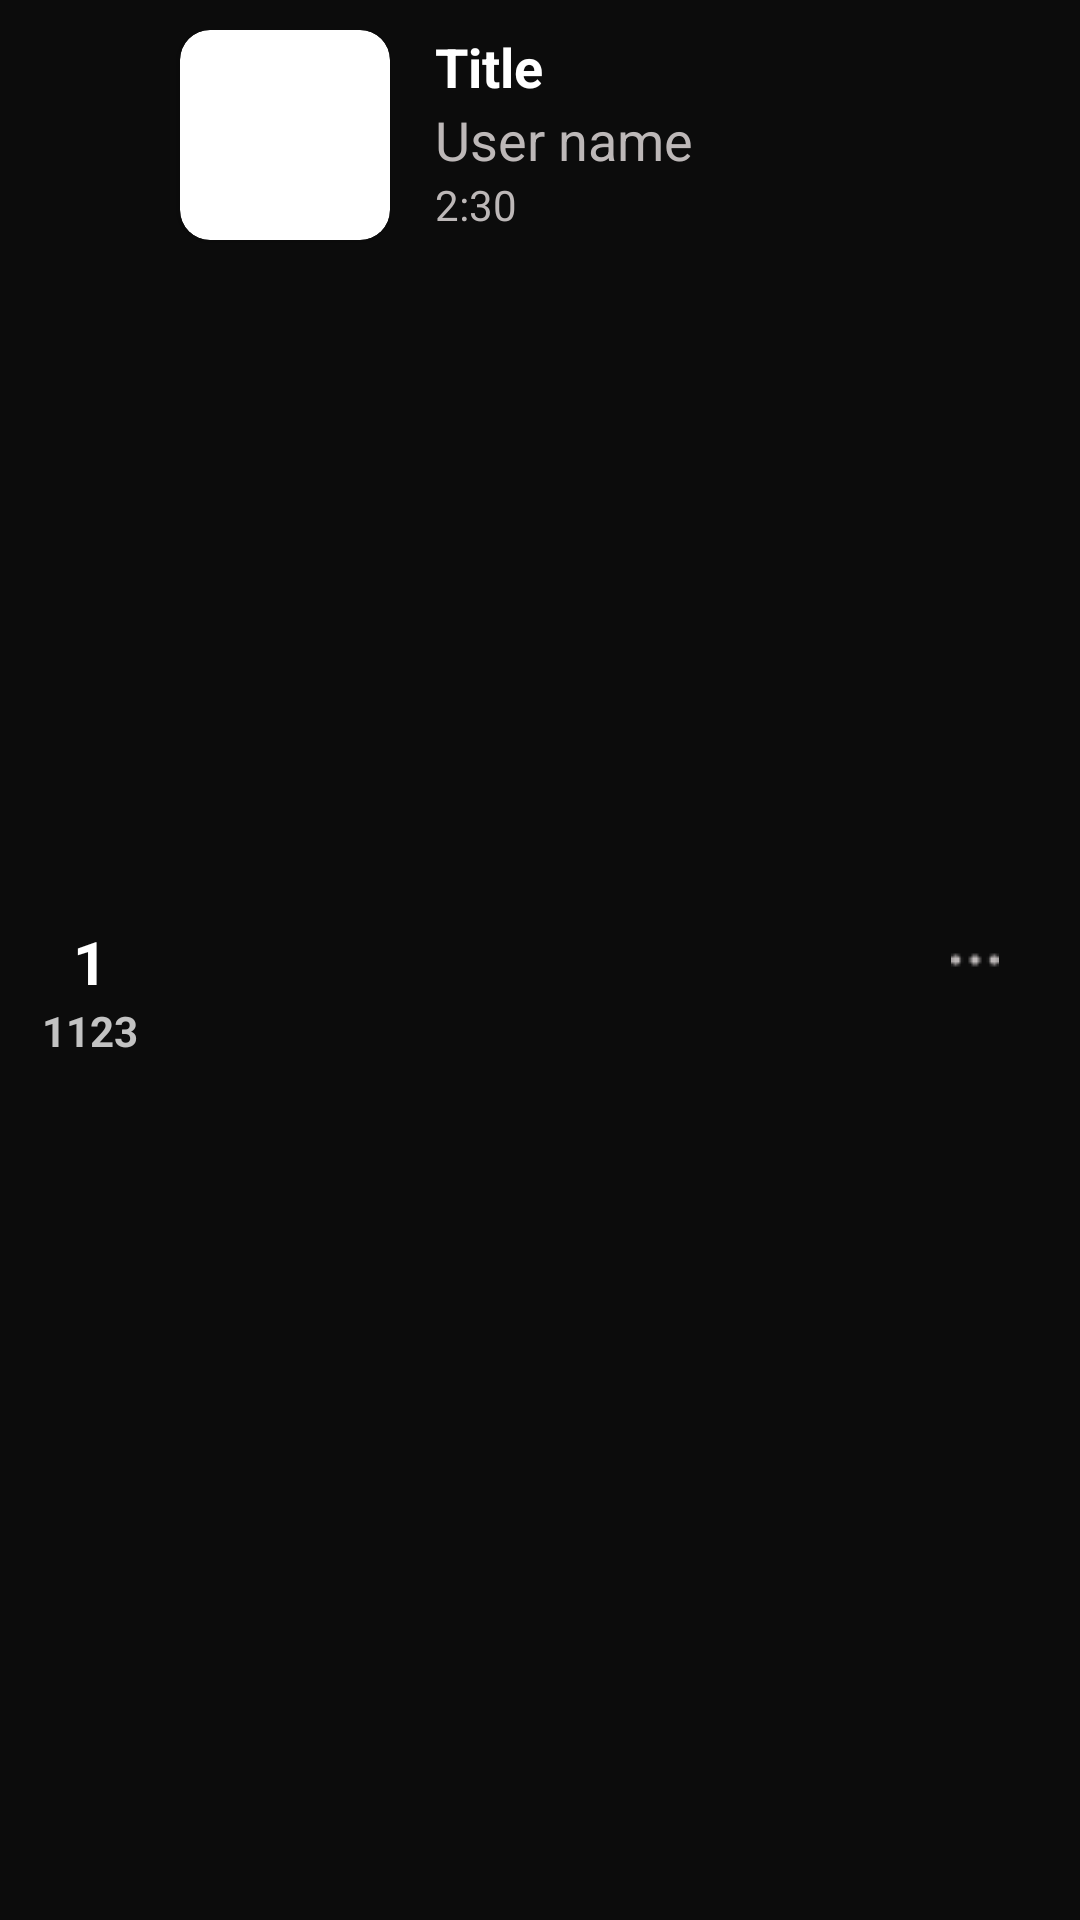

Screen size 1080*1920. Icon name, then its box in pixels as (x1, y1, x2, y2):
more: (951, 953, 999, 967)
